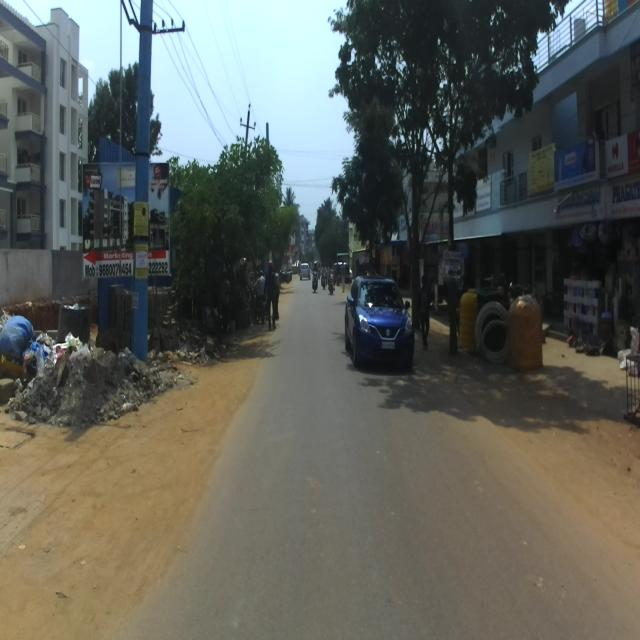car ahead at: (345, 274, 417, 374)
electric pole ahead at: (120, 0, 184, 356)
